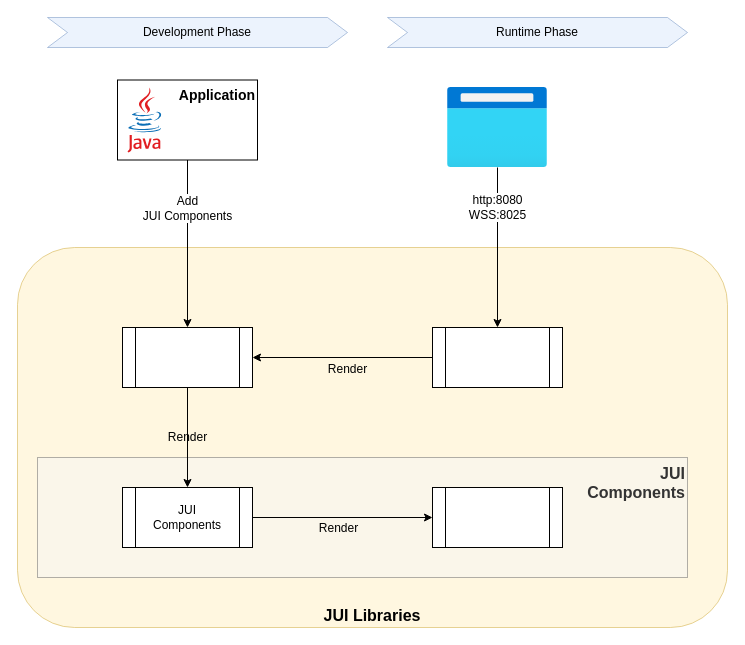
The diagram is 745 pixels wide and 645 high, and some of its shapes have lost their labels. The centre of each missing label's shape, as x and y in pixels:
HTTP WebSocket Server: the point at 497,357
JUI Application Context: the point at 187,357
JUI HTML Templates: the point at 497,517
